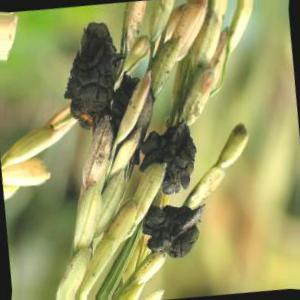Leaf_Scald: (71, 21, 120, 124), (138, 127, 194, 193), (148, 203, 193, 262)
